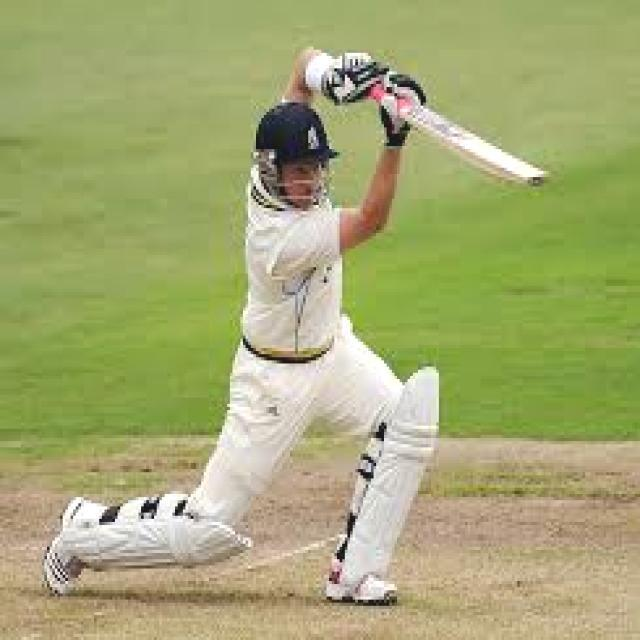bat: (389, 98, 564, 200)
toe: (524, 172, 554, 192)
